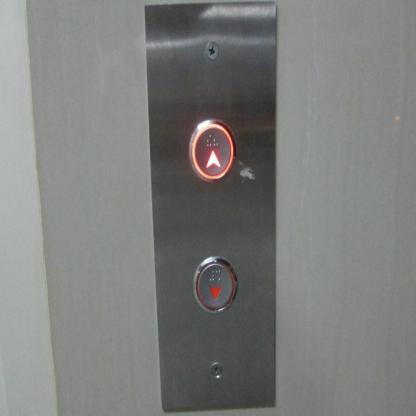down: (192, 256, 237, 313)
up: (189, 119, 236, 183)
